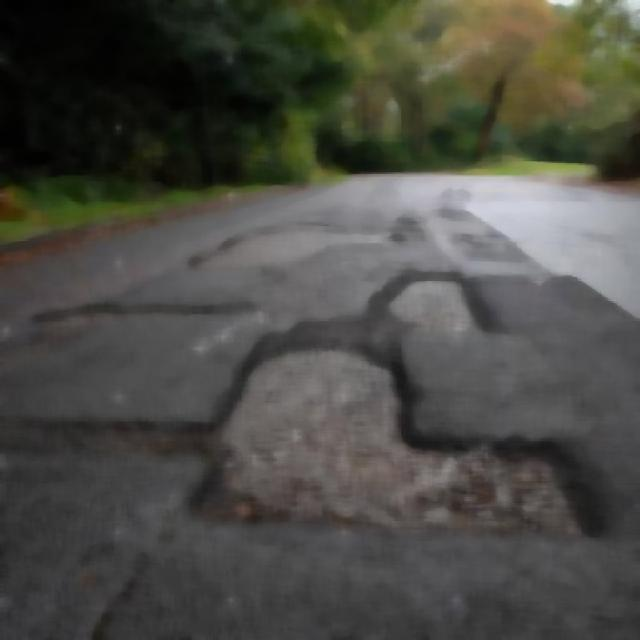Pothole: (198, 319, 599, 570), (172, 194, 388, 268)
